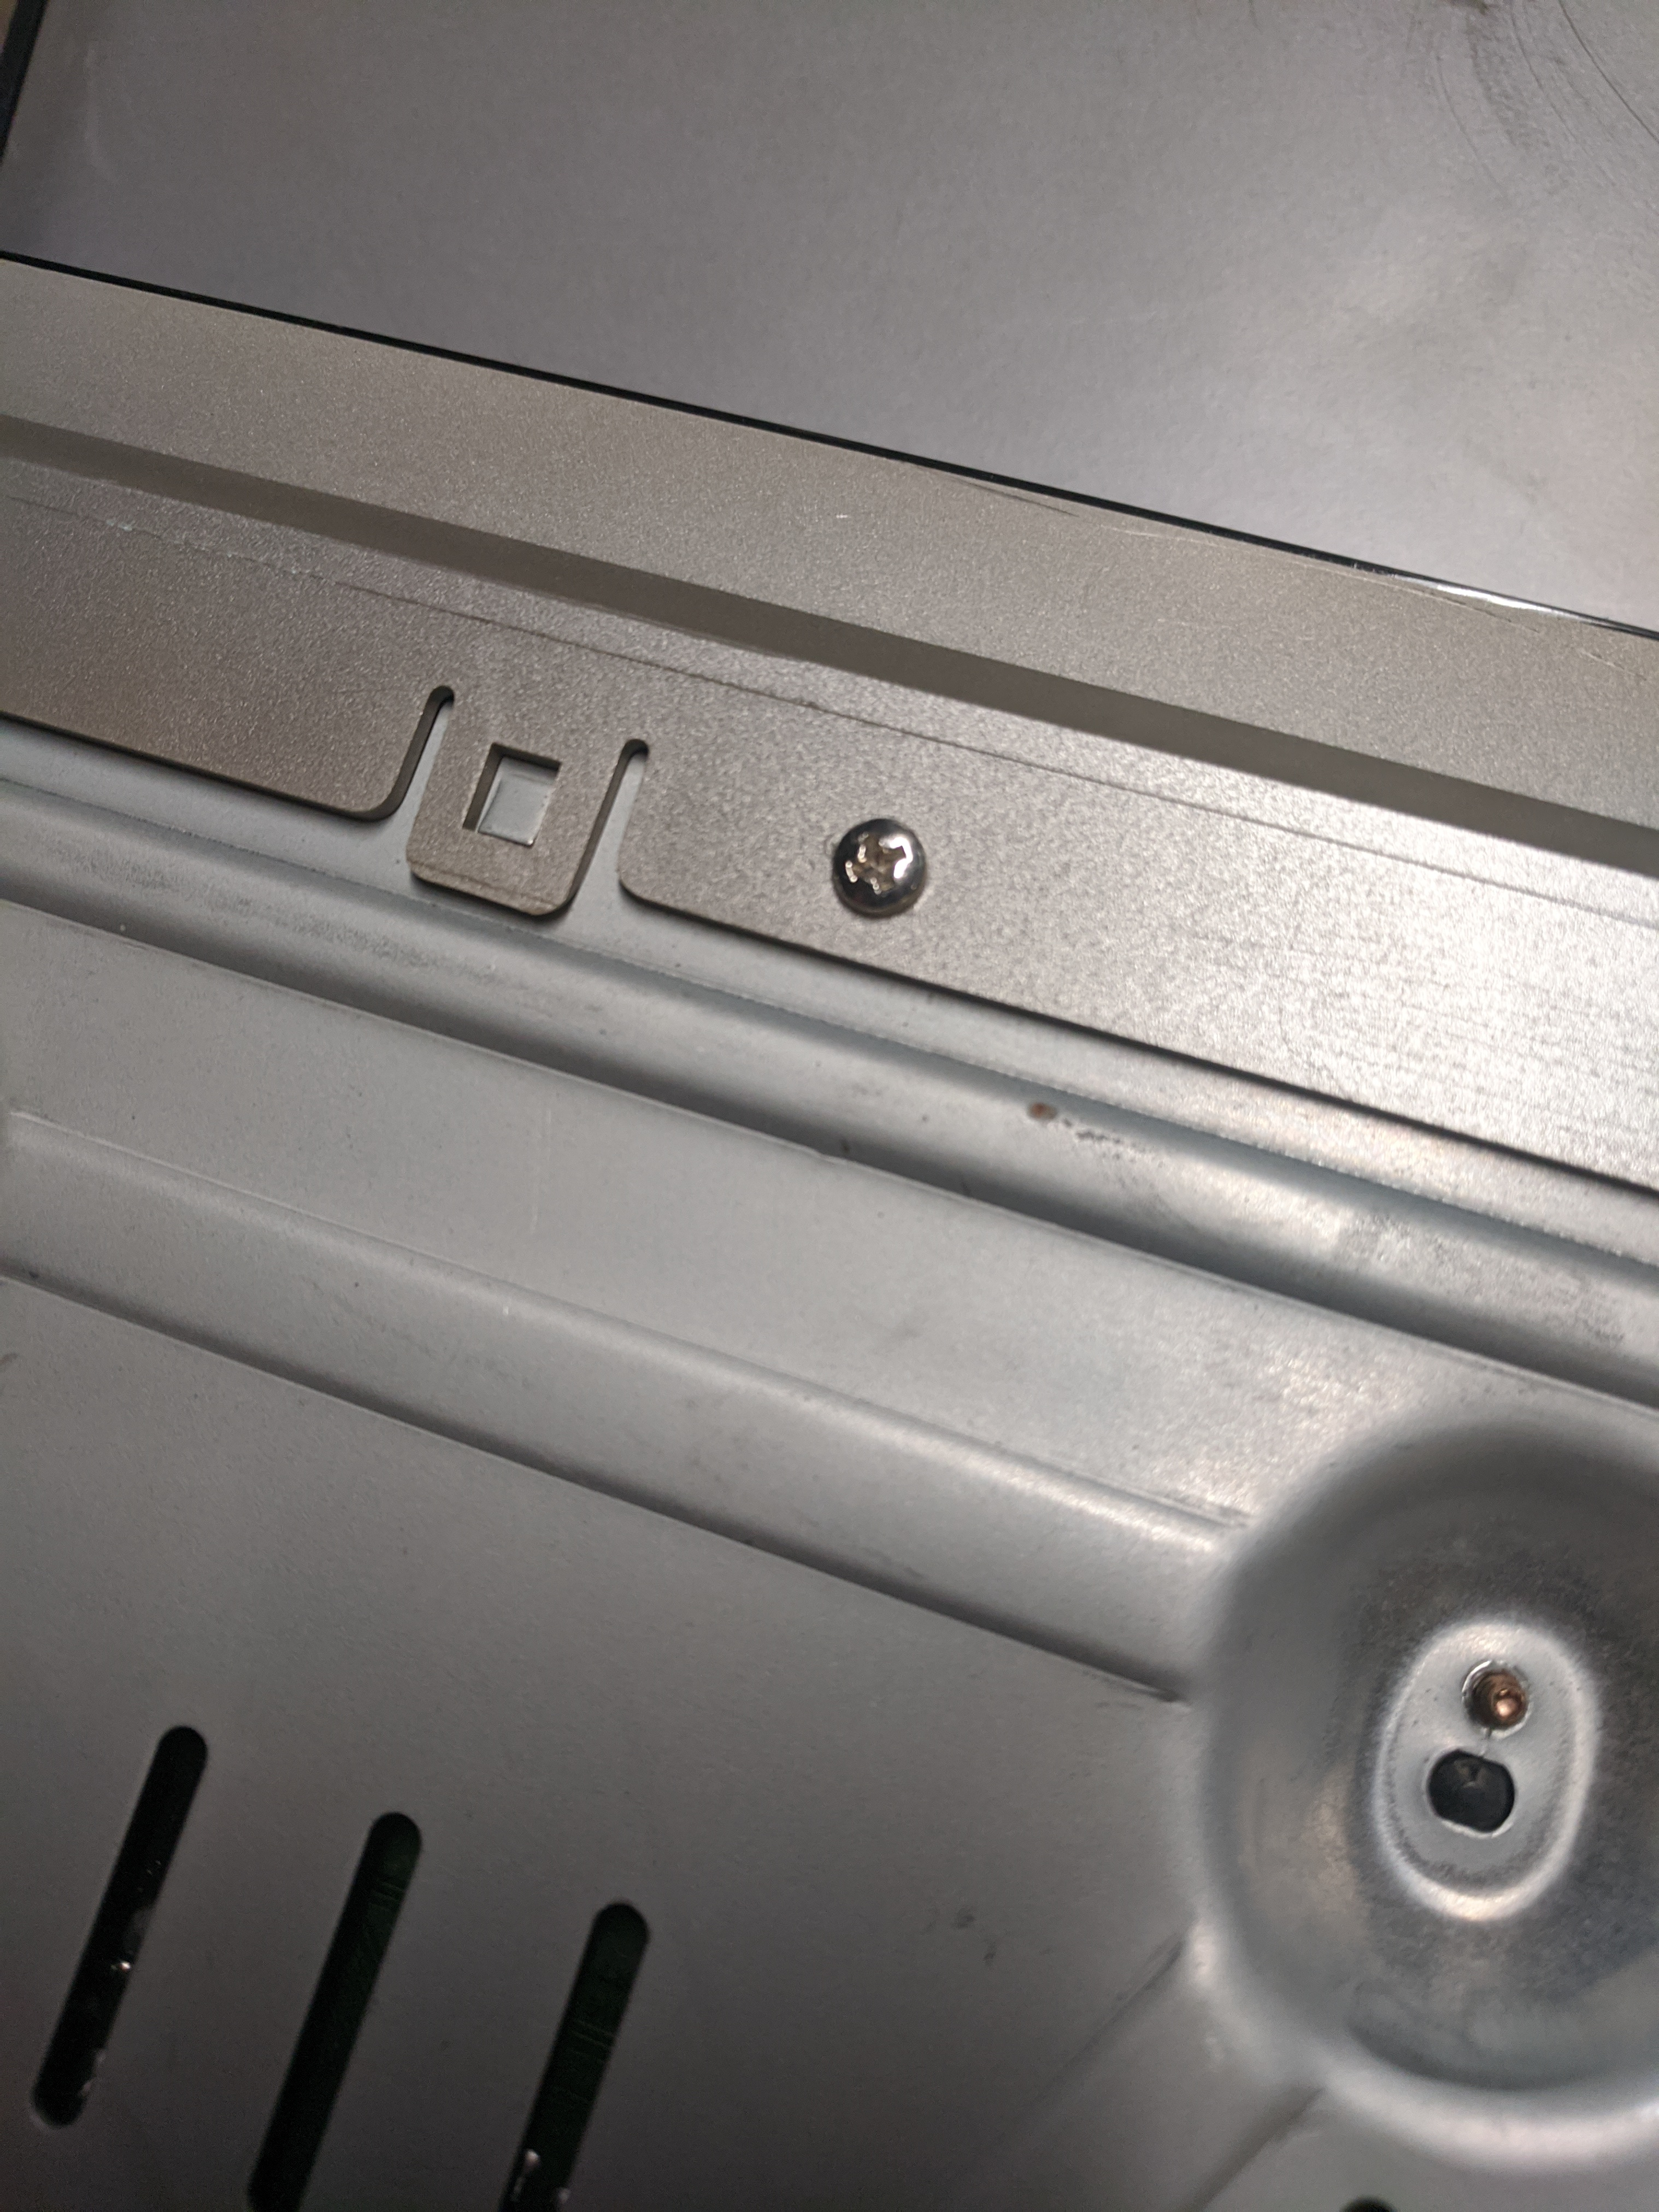cross_recessed_screw: (814, 803, 950, 914)
